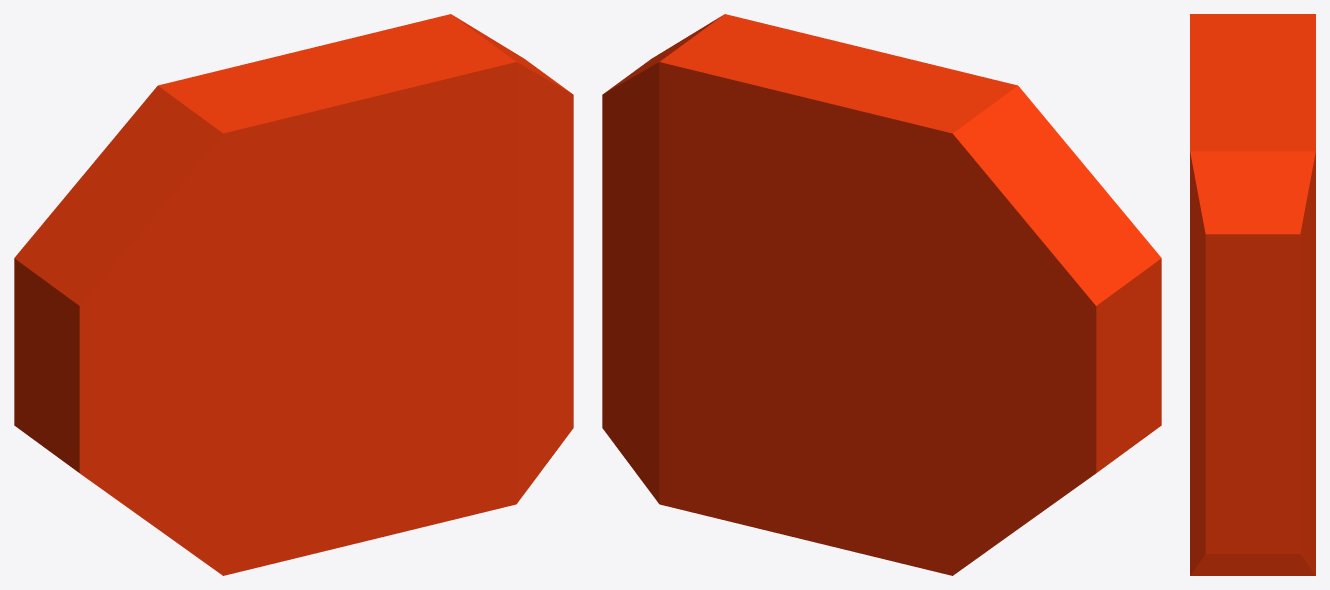
File: lentil.obj
3 renders of one model, left to right at view 1: azimuth 30°, elevation 25°; view 2: azimuth 150°, elevation 25°; view 3: azimuth 270°, elevation 25°, orthographic. The views are drawn at different scales.
Visible parts, largest first — view 1: Cube.001; view 2: Cube.001; view 3: Cube.001.
Part boxes in pixels (<box>): Cube.001: <box>14,14,573,575</box>; Cube.001: <box>602,14,1161,575</box>; Cube.001: <box>1190,14,1315,575</box>.
Size of the model in its own units: 0.0111 by 0.00933 by 0.00251.
